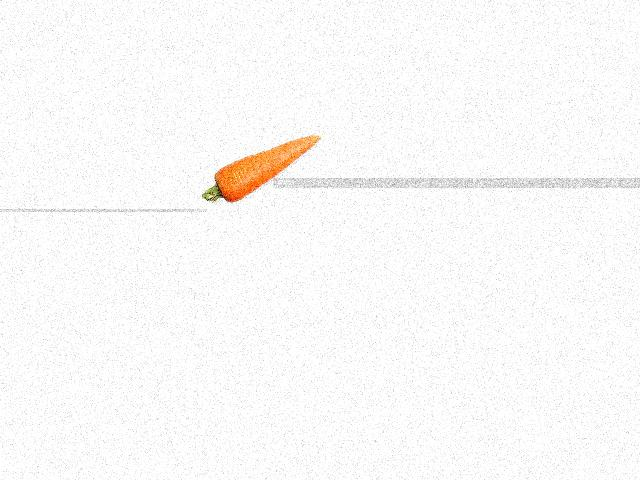carrot: (202, 132, 321, 204)
